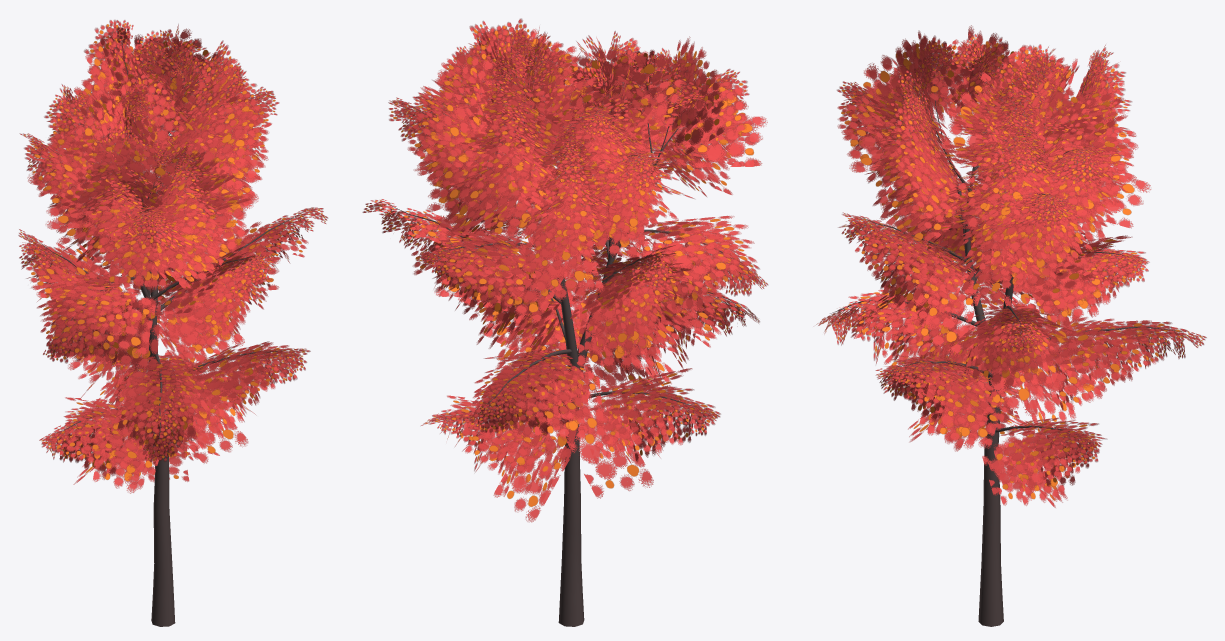
The picture shows the model from 3 angles, left to right: view 1: azimuth 30°, elevation 25°; view 2: azimuth 150°, elevation 25°; view 3: azimuth 270°, elevation 25°; orthographic projection. The views are drawn at different scales.
Parts seen in each view (by area): view 1: leaves, tree; view 2: leaves, tree; view 3: leaves, tree.
Boxes of the visible parts, x1,y1,x2,y2 form: leaves: (18,20,327,493); tree: (41,40,303,626); leaves: (362,18,767,522); tree: (388,44,741,626); leaves: (816,25,1206,507); tree: (830,66,1183,626).
Size of the model in its own units: 60.82 by 100 by 61.25.
2 materials, 1 textured.
